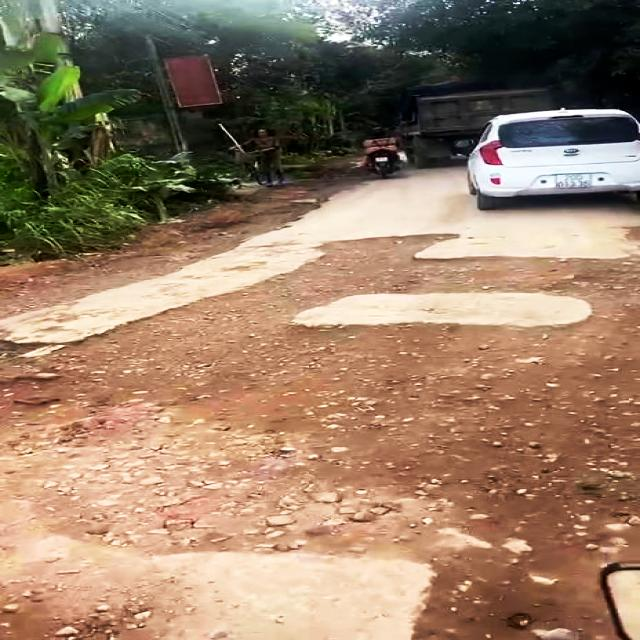pothole: (0, 224, 640, 570), (372, 545, 639, 640)
